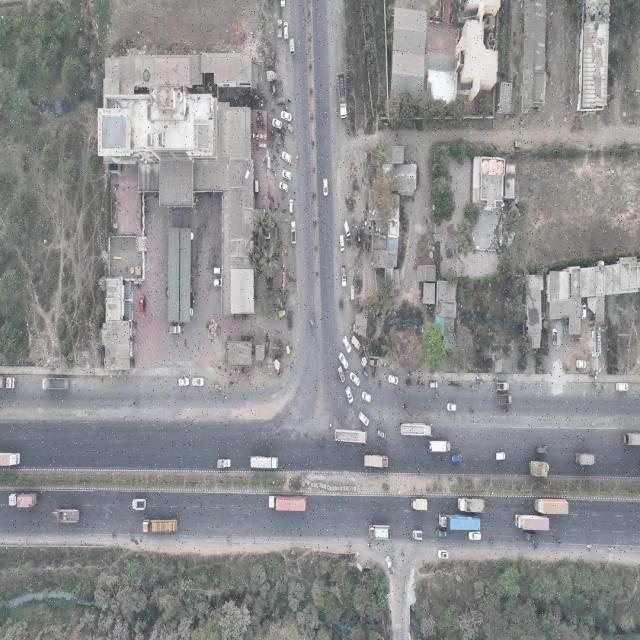3W: (308, 315, 316, 329), (361, 368, 370, 380), (337, 299, 345, 312), (288, 317, 294, 332), (286, 342, 292, 357), (286, 309, 294, 320), (318, 438, 326, 448), (287, 122, 294, 133), (278, 310, 286, 317)
Bus: (400, 419, 433, 439), (335, 427, 367, 447)
Cars: (271, 118, 285, 134), (343, 333, 353, 355), (338, 351, 349, 369), (281, 148, 293, 164), (358, 409, 369, 426), (522, 530, 539, 541), (192, 375, 205, 389), (281, 168, 293, 183), (387, 372, 399, 387), (467, 531, 482, 543), (345, 385, 354, 405), (338, 233, 346, 254), (322, 176, 329, 199), (280, 109, 292, 122), (615, 382, 628, 394), (536, 443, 549, 455), (451, 452, 463, 465), (177, 375, 190, 387), (349, 372, 361, 385), (139, 294, 146, 315), (343, 222, 351, 240), (438, 548, 450, 560), (360, 391, 372, 403), (552, 325, 558, 348), (278, 181, 289, 193), (283, 22, 289, 42), (447, 401, 457, 413), (494, 452, 506, 462), (435, 528, 447, 538), (581, 302, 587, 321), (575, 359, 586, 369), (376, 429, 387, 439), (289, 197, 295, 215), (276, 95, 286, 105), (429, 380, 439, 390), (213, 266, 223, 276), (212, 278, 222, 287)
LCV: (384, 554, 397, 576), (335, 365, 346, 385), (131, 498, 148, 510), (167, 324, 183, 336), (340, 265, 348, 288), (290, 220, 297, 246), (216, 459, 232, 470), (412, 528, 424, 541), (496, 381, 510, 392), (289, 38, 296, 57), (277, 18, 283, 39)
M2W: (400, 547, 406, 559), (366, 541, 375, 548), (585, 544, 594, 551), (531, 544, 539, 551), (554, 538, 562, 545), (133, 400, 140, 407), (488, 539, 495, 546), (347, 541, 353, 549), (502, 408, 510, 414), (290, 361, 295, 370), (295, 153, 299, 163), (608, 547, 616, 552), (294, 275, 297, 288), (469, 407, 475, 413), (401, 405, 408, 410), (329, 422, 334, 429), (391, 546, 395, 554), (298, 49, 301, 59), (324, 109, 327, 119), (434, 393, 439, 399)
MAV: (436, 515, 480, 533)
Truck: (514, 512, 552, 531), (267, 494, 307, 512), (534, 497, 570, 517), (455, 495, 487, 514), (336, 71, 348, 120), (51, 508, 81, 526), (141, 519, 177, 534), (249, 454, 280, 471), (8, 493, 38, 510), (364, 453, 390, 472), (41, 376, 69, 392), (427, 437, 451, 454), (529, 460, 550, 477), (574, 450, 595, 467), (368, 524, 391, 539), (410, 496, 429, 511), (495, 391, 514, 405)
